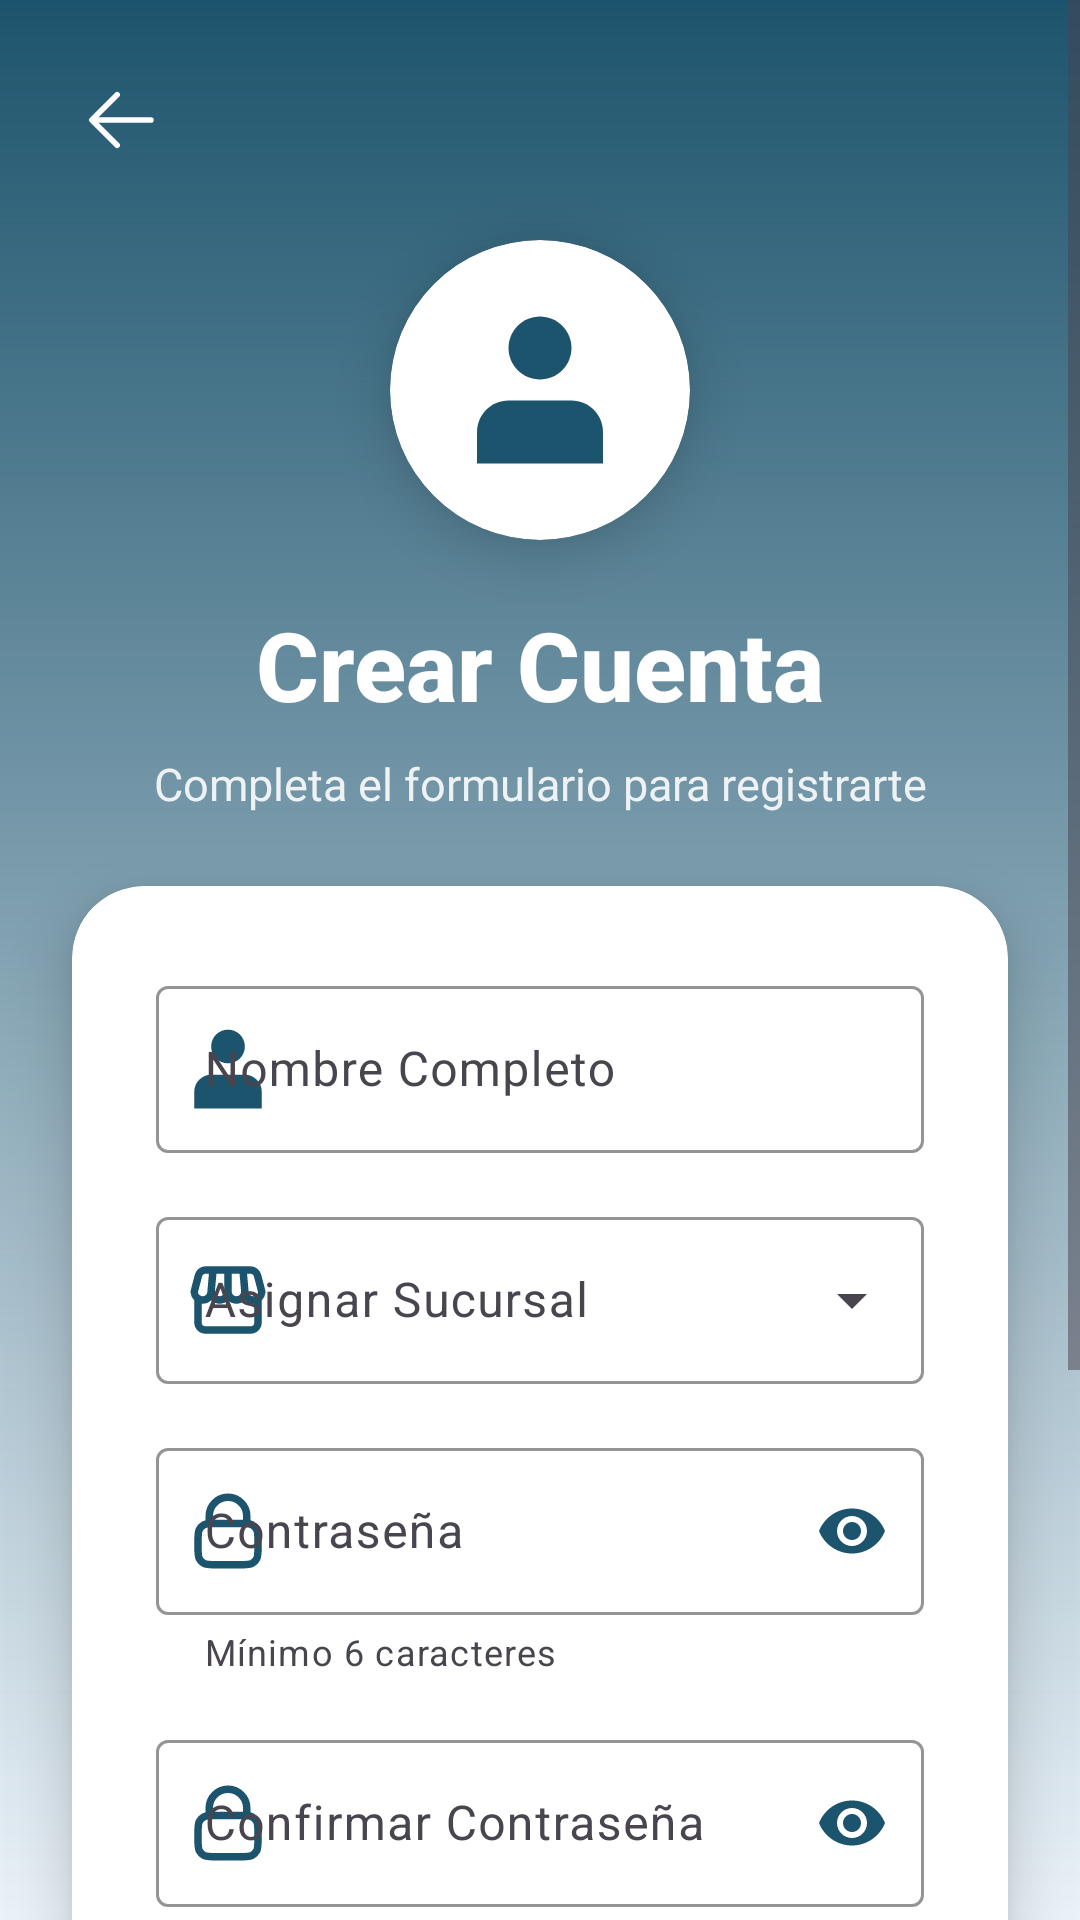

Screen size 1080 × 1920. Icon name, then its box in pixels as [x1, y1, x2, y2]:
Volver: [89, 91, 154, 149]
